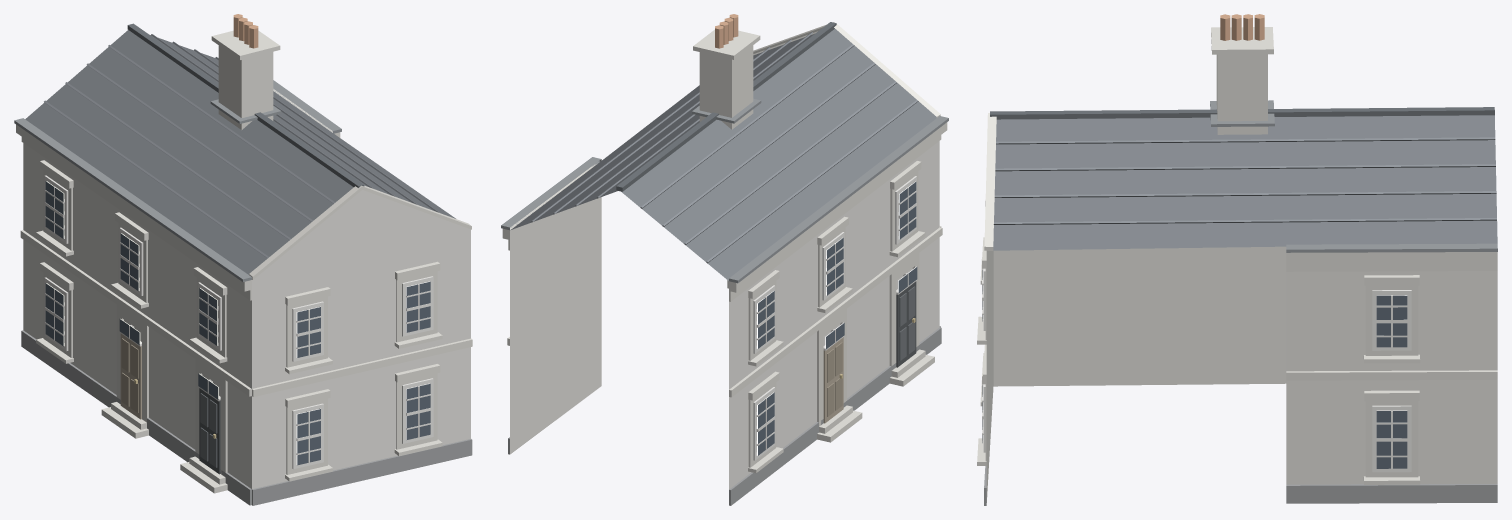
3 views of the same model, side by side, from view 1: azimuth 30°, elevation 25°; view 2: azimuth 150°, elevation 25°; view 3: azimuth 270°, elevation 25° (orthographic). The views are drawn at different scales.
Visible parts, largest first — view 1: harl, slate, string, frame, plinth, slate_lt, lead, chim_render, slate_dk, window_glass_003, window_glass_005, door_grey_p (+10 smaller); view 2: harl, slate, string, slate_lt, lead, chim_render, frame, plinth, slate_dk, door_dark_p, door_grey_p, window_glass_011 (+6 smaller); view 3: harl, slate, string, slate_lt, plinth, slate_dk, chim_render, frame, lead, window_glass_001, window_glass_002, pot.
Boxes of the visible parts, <box> form: harl: <box>23,143,470,488</box>; slate: <box>25,30,455,274</box>; string: <box>16,30,472,493</box>; frame: <box>44,175,433,469</box>; plinth: <box>21,330,472,505</box>; slate_lt: <box>44,34,440,258</box>; lead: <box>14,80,341,281</box>; chim_render: <box>218,45,273,129</box>; slate_dk: <box>127,23,364,187</box>; window_glass_003: <box>296,408,320,465</box>; window_glass_005: <box>406,383,430,439</box>; door_grey_p: <box>121,338,138,412</box>; harl: <box>510,141,939,489</box>; slate: <box>511,29,936,280</box>; string: <box>502,22,947,473</box>; slate_lt: <box>531,32,918,263</box>; lead: <box>501,98,948,283</box>; chim_render: <box>699,45,753,129</box>; frame: <box>753,176,916,460</box>; plinth: <box>508,326,941,505</box>; slate_dk: <box>616,22,836,191</box>; door_dark_p: <box>899,286,915,360</box>; door_grey_p: <box>827,342,842,416</box>; window_glass_011: <box>757,392,774,455</box>; harl: <box>986,246,1497,502</box>; slate: <box>993,115,1497,250</box>; string: <box>977,27,1497,484</box>; slate_lt: <box>993,137,1496,224</box>; plinth: <box>984,466,1497,505</box>; slate_dk: <box>990,107,1494,119</box>; chim_render: <box>1216,54,1267,134</box>; frame: <box>982,268,1411,472</box>; lead: <box>1210,100,1497,252</box>; window_glass_001: <box>1376,410,1407,468</box>; window_glass_002: <box>1376,295,1407,347</box>; pot: <box>1220,14,1264,40</box>.
Size of the model in its own units: 7.13 by 10.73 by 11.85.
